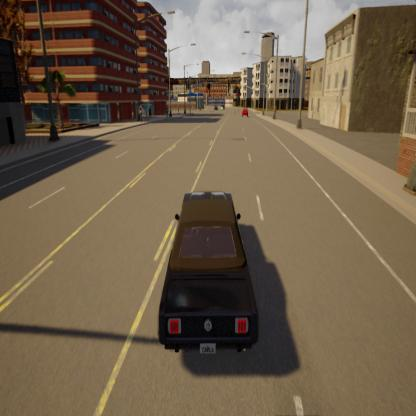Cars: (158, 188, 259, 360), (241, 104, 248, 119)
Pedestrian: (137, 100, 143, 121)
